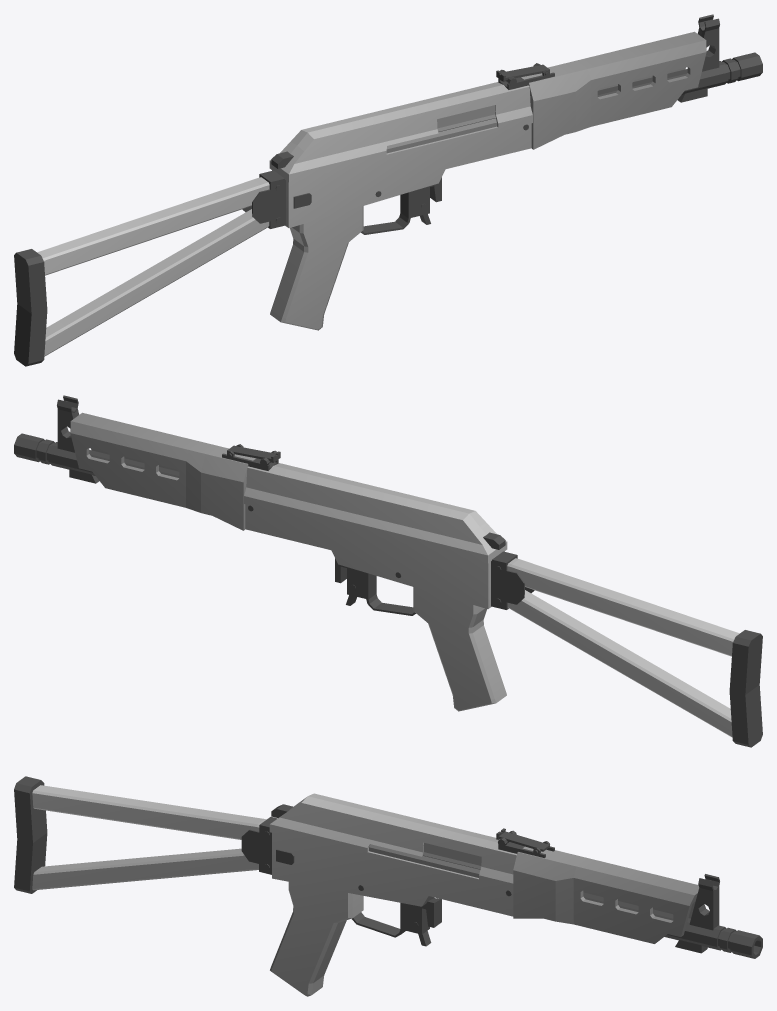
The model's file is SMG5_02.fbx.
3 renders of one model, top to bottom at view 1: azimuth 30°, elevation 25°; view 2: azimuth 150°, elevation 25°; view 3: azimuth 330°, elevation 25°, orthographic.
Visible parts, largest first — view 1: SMG5_02; view 2: SMG5_02; view 3: SMG5_02.
Part boxes in pixels (x1=…): SMG5_02: x1=14, y1=14, x2=762, y2=366; SMG5_02: x1=14, y1=395, x2=762, y2=747; SMG5_02: x1=14, y1=776, x2=762, y2=996.
Bounding box in the file's own units: 0.8851 × 0.2432 × 0.0422.
